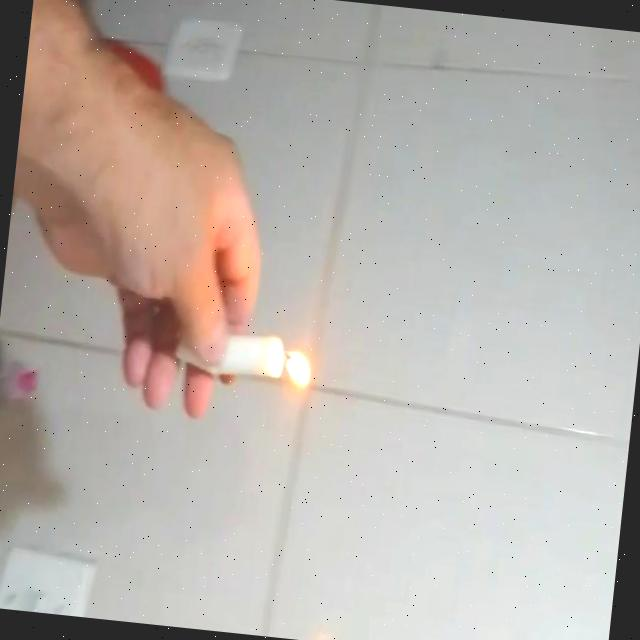fire: (279, 347, 313, 392)
